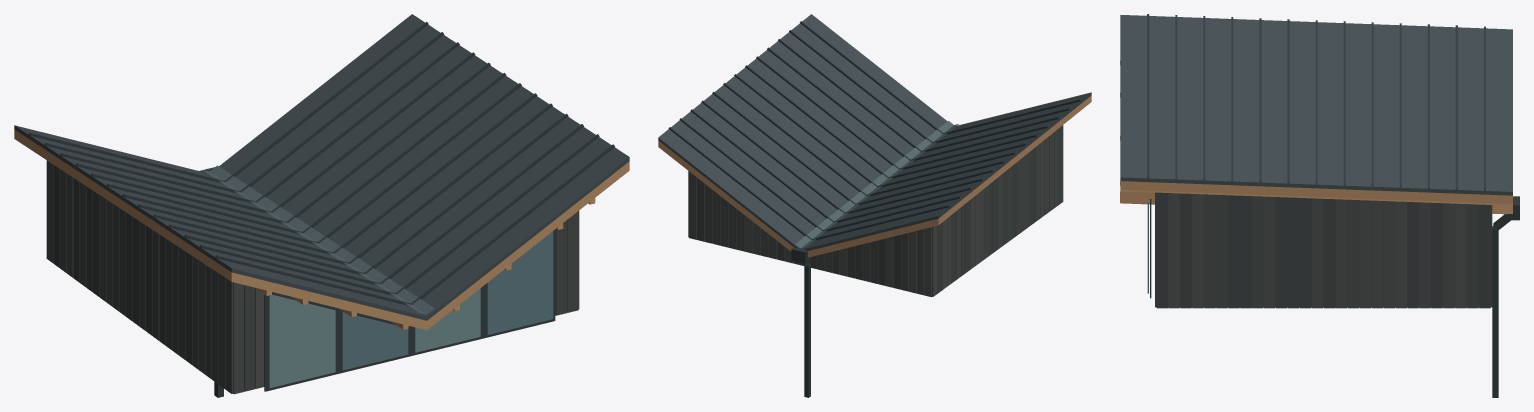
The model's file is butterfly.glb.
The picture shows the model from 3 angles, left to right: view 1: azimuth 30°, elevation 25°; view 2: azimuth 150°, elevation 25°; view 3: azimuth 270°, elevation 25°; orthographic projection. The views are drawn at different scales.
Parts seen in each view (by area): view 1: KitButterflyRoofFinish, KitButterflyDetails, KitButterflySiding; view 2: KitButterflyRoofFinish, KitButterflySiding, KitButterflyDetails; view 3: KitButterflyRoofFinish, KitButterflySiding, KitButterflyDetails.
Part boxes in pixels (left/top/right/bottom): KitButterflyRoofFinish: left=14, top=14, right=629, bottom=320; KitButterflyDetails: left=14, top=21, right=629, bottom=397; KitButterflySiding: left=46, top=160, right=579, bottom=394; KitButterflyRoofFinish: left=658, top=14, right=1091, bottom=250; KitButterflySiding: left=688, top=125, right=1063, bottom=297; KitButterflyDetails: left=658, top=21, right=1091, bottom=397; KitButterflyRoofFinish: left=1120, top=15, right=1512, bottom=195; KitButterflySiding: left=1155, top=192, right=1492, bottom=308; KitButterflyDetails: left=1120, top=14, right=1519, bottom=397.
Size of the model in its own units: 6.58 by 5.4 by 6.32.
